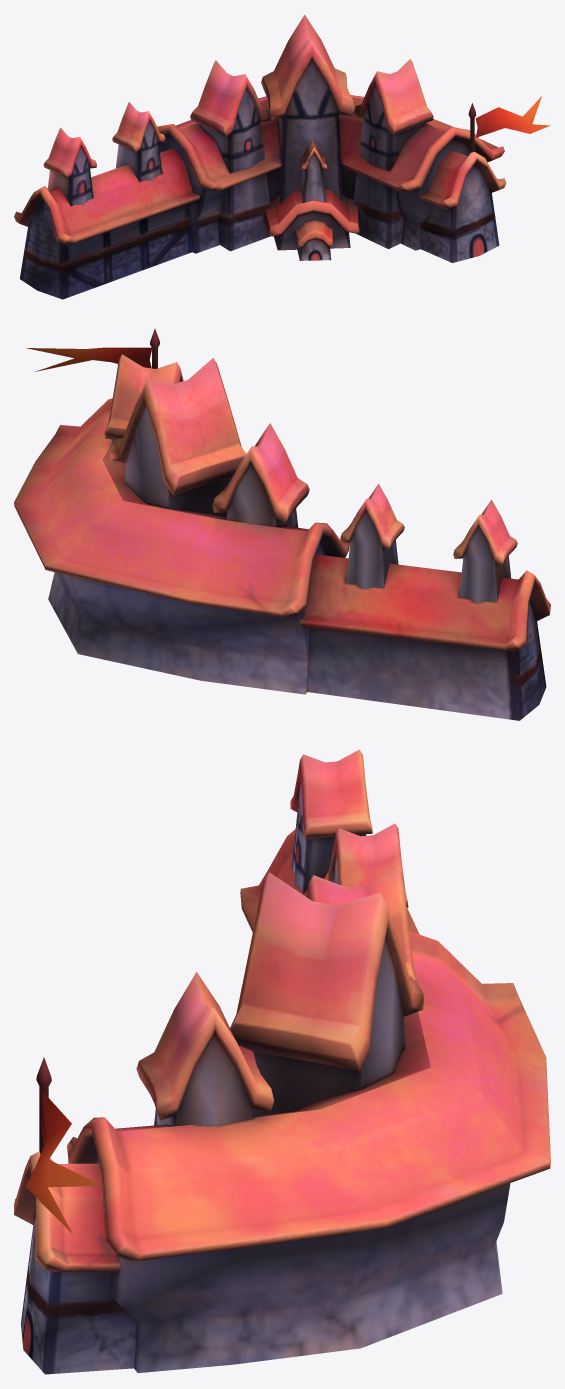
File: Academy.fbx
3 views of the same model, one above another, from view 1: azimuth 30°, elevation 25°; view 2: azimuth 150°, elevation 25°; view 3: azimuth 270°, elevation 25° (orthographic). The views are drawn at different scales.
Visible parts, largest first — view 1: ACADEMY; view 2: ACADEMY; view 3: ACADEMY.
Part boxes in pixels (x1=…): ACADEMY: x1=14, y1=14, x2=550, y2=299; ACADEMY: x1=14, y1=328, x2=550, y2=720; ACADEMY: x1=14, y1=749, x2=550, y2=1374.
Bounding box in the file's own units: 64.18 × 26.39 × 33.67.
Materials: 1 (1 with a texture image).
